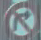Don't turn right: (4, 3, 38, 39)
